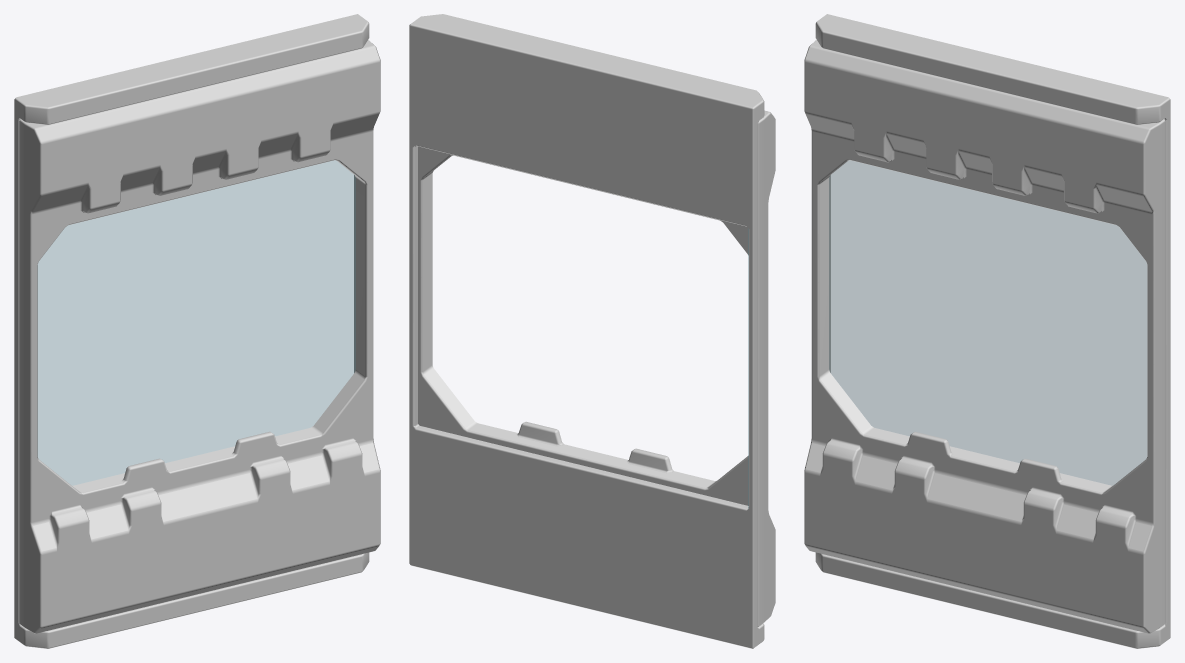
The model's file is WindowB2x3.glb.
3 renders of one model, left to right at view 1: azimuth 30°, elevation 25°; view 2: azimuth 150°, elevation 25°; view 3: azimuth 330°, elevation 25°, orthographic.
Parts seen in each view (by area): view 1: WindowB2x3; view 2: WindowB2x3; view 3: WindowB2x3.
Part boxes in pixels (x1=…): WindowB2x3: x1=14, y1=14, x2=380, y2=648; WindowB2x3: x1=409, y1=14, x2=775, y2=648; WindowB2x3: x1=804, y1=14, x2=1170, y2=648.
Size of what is drawn, in the model's own units: 2 by 3 by 0.2515.
